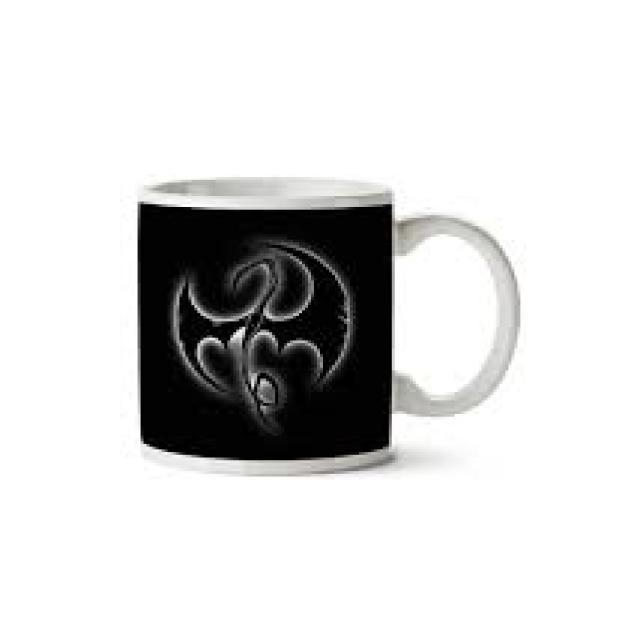taza: (135, 174, 521, 478)
